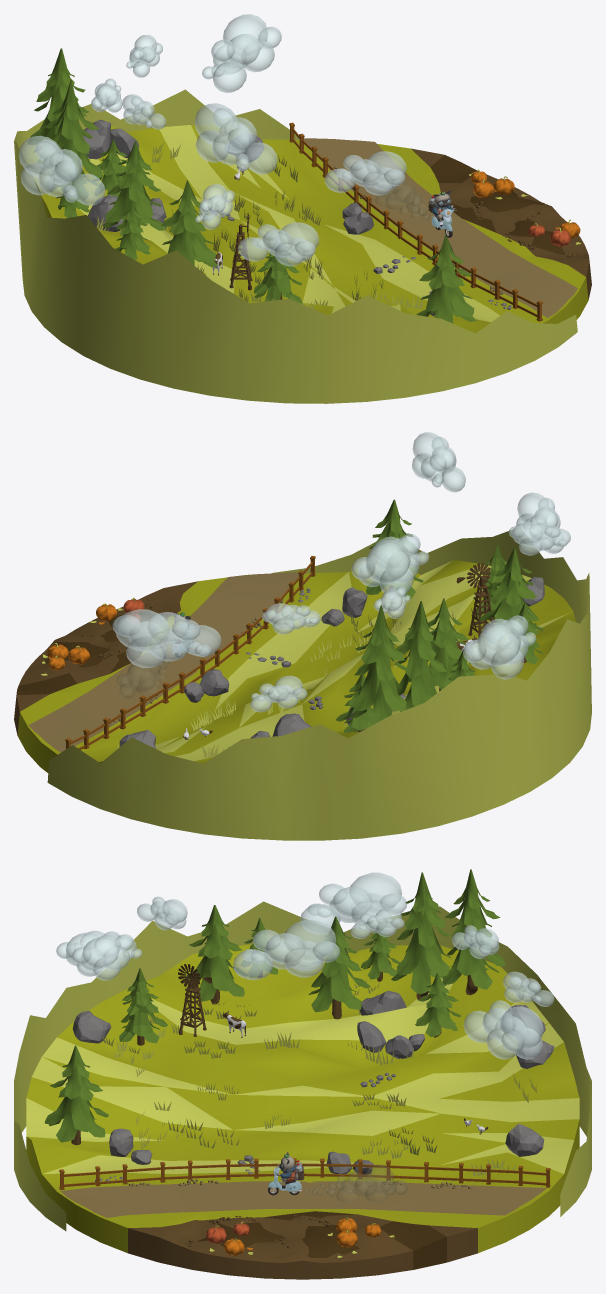
File: milk_delivery.glb
3 renders of one model, top to bottom at view 1: azimuth 30°, elevation 25°; view 2: azimuth 150°, elevation 25°; view 3: azimuth 270°, elevation 25°, orthographic.
Parts seen in each view (by area): view 1: polySurface1353, polySurface1352, pPlane4, pCube74, pCube72, pCube116, pCube115, polySurface1306, pCube73, polySurface645, polySurface652, polySurface1305 (+20 smaller); view 2: polySurface1353, polySurface1352, pPlane4, pCube116, polySurface1323, pCube74, pCube72, polySurface652, pCube115, polySurface946, polySurface1305, polySurface645 (+18 smaller); view 3: polySurface1352, polySurface1353, pPlane4, pCube72, pCube74, polySurface652, pCube116, polySurface1323, polySurface1306, polySurface946, polySurface645, polySurface1305 (+25 smaller).
Boxes of the visible parts, x1=… form: polySurface1353: x1=14, y1=89, x2=577, y2=403; polySurface1352: x1=27, y1=124, x2=591, y2=333; pPlane4: x1=304, y1=138, x2=577, y2=317; pCube74: x1=19, y1=135, x2=105, y2=205; pCube72: x1=194, y1=103, x2=277, y2=174; pCube116: x1=202, y1=14, x2=281, y2=92; pCube115: x1=324, y1=151, x2=406, y2=195; polySurface1306: x1=416, y1=235, x2=476, y2=323; pCube73: x1=238, y1=222, x2=319, y2=266; polySurface645: x1=103, y1=141, x2=166, y2=236; polySurface652: x1=43, y1=80, x2=103, y2=200; polySurface1305: x1=161, y1=180, x2=217, y2=267; polySurface1353: x1=47, y1=530, x2=591, y2=840; polySurface1352: x1=14, y1=560, x2=575, y2=772; pPlane4: x1=28, y1=572, x2=306, y2=752; pCube116: x1=112, y1=609, x2=221, y2=668; polySurface1323: x1=349, y1=605, x2=407, y2=724; pCube74: x1=463, y1=615, x2=536, y2=679; pCube72: x1=351, y1=534, x2=429, y2=593; polySurface652: x1=394, y1=601, x2=446, y2=708; pCube115: x1=412, y1=432, x2=465, y2=492; polySurface946: x1=139, y1=556, x2=315, y2=716; polySurface1305: x1=479, y1=548, x2=543, y2=640; polySurface645: x1=427, y1=598, x2=474, y2=691; polySurface1352: x1=26, y1=944, x2=579, y2=1279; polySurface1353: x1=14, y1=901, x2=591, y2=1231; pPlane4: x1=60, y1=1181, x2=546, y2=1217; pCube72: x1=233, y1=919, x2=339, y2=980; pCube74: x1=300, y1=872, x2=407, y2=933; polySurface652: x1=391, y1=872, x2=451, y2=999; pCube116: x1=463, y1=1000, x2=543, y2=1059; polySurface1323: x1=442, y1=869, x2=505, y2=995; polySurface1306: x1=44, y1=1045, x2=108, y2=1145; polySurface946: x1=59, y1=1158, x2=428, y2=1189; polySurface645: x1=308, y1=916, x2=370, y2=1019; polySurface1305: x1=184, y1=905, x2=247, y2=1004.
Bounding box in the file's own units: 0.3187 × 0.1305 × 0.3229.
15 materials, 2 textured.
